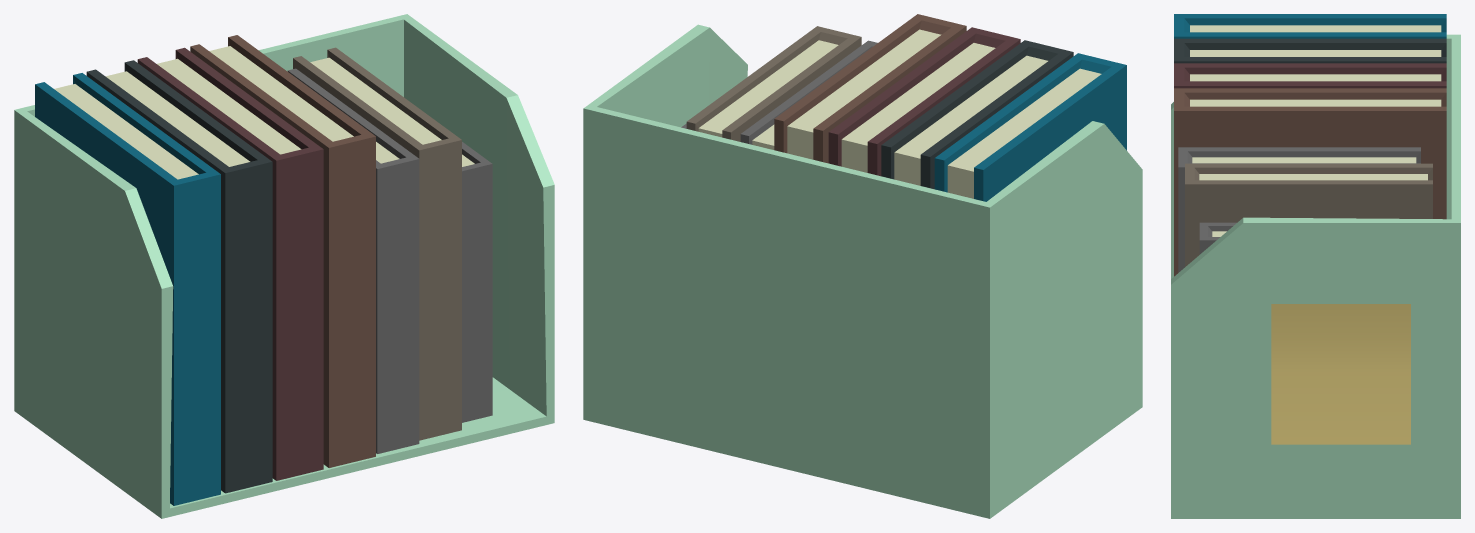
The model's file is bookli.fbx.
The picture shows the model from 3 angles, left to right: view 1: azimuth 30°, elevation 25°; view 2: azimuth 150°, elevation 25°; view 3: azimuth 270°, elevation 25°; orthographic projection. The views are drawn at different scales.
Parts seen in each view (by area): view 1: 立方体.011; view 2: 立方体.011; view 3: 立方体.011, 立方体.004.
Boxes of the visible parts, left/top/right/bottom form: 立方体.011: left=14, top=14, right=554, bottom=518; 立方体.011: left=583, top=14, right=1142, bottom=518; 立方体.011: left=1171, top=14, right=1460, bottom=518; 立方体.004: left=1271, top=304, right=1410, bottom=444.
Size of the model in its own units: 380 by 292 by 238.
